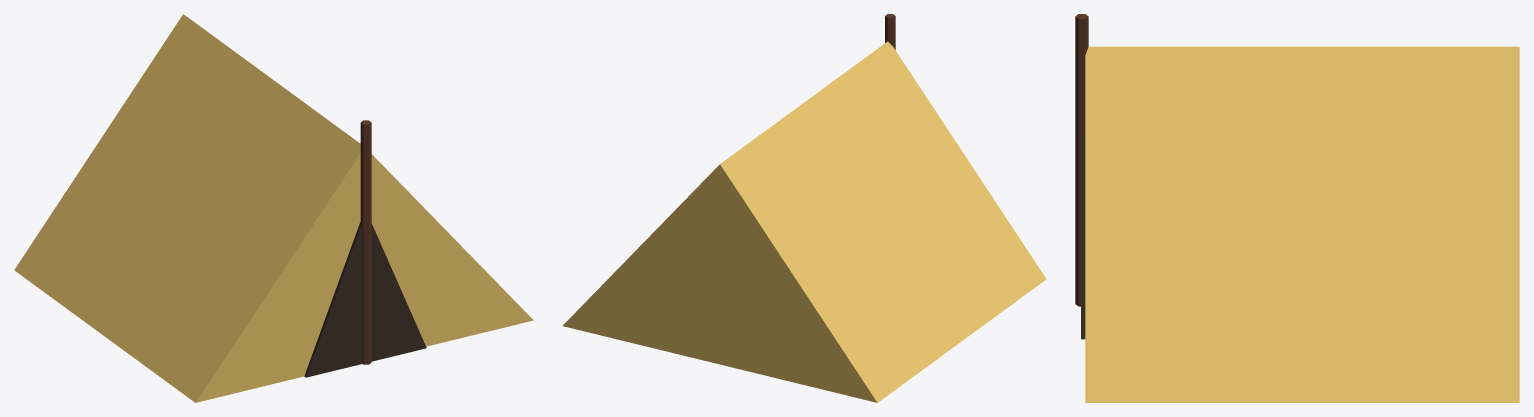
File: tent.glb
The picture shows the model from 3 angles, left to right: view 1: azimuth 30°, elevation 25°; view 2: azimuth 150°, elevation 25°; view 3: azimuth 270°, elevation 25°; orthographic projection. The views are drawn at different scales.
Parts seen in each view (by area): view 1: tent; view 2: tent; view 3: tent.
Boxes of the visible parts, bbox=[...] form: tent: bbox=[14, 14, 533, 402]; tent: bbox=[563, 14, 1046, 402]; tent: bbox=[1075, 14, 1519, 402].
Size of the model in its own units: 2.8 by 1.9 by 2.66.
